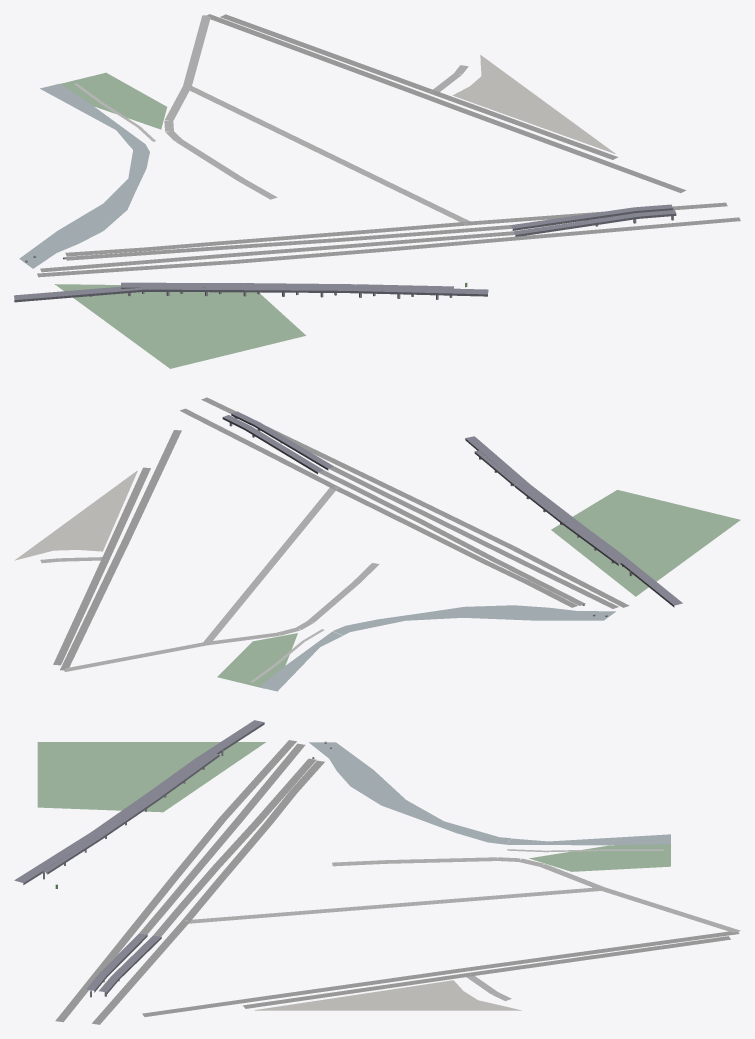
3 views of the same model, one above another, from view 1: azimuth 30°, elevation 25°; view 2: azimuth 150°, elevation 25°; view 3: azimuth 270°, elevation 25° (orthographic). The views are drawn at different scales.
Size of the model in its own units: 570 by 9.82 by 574.
